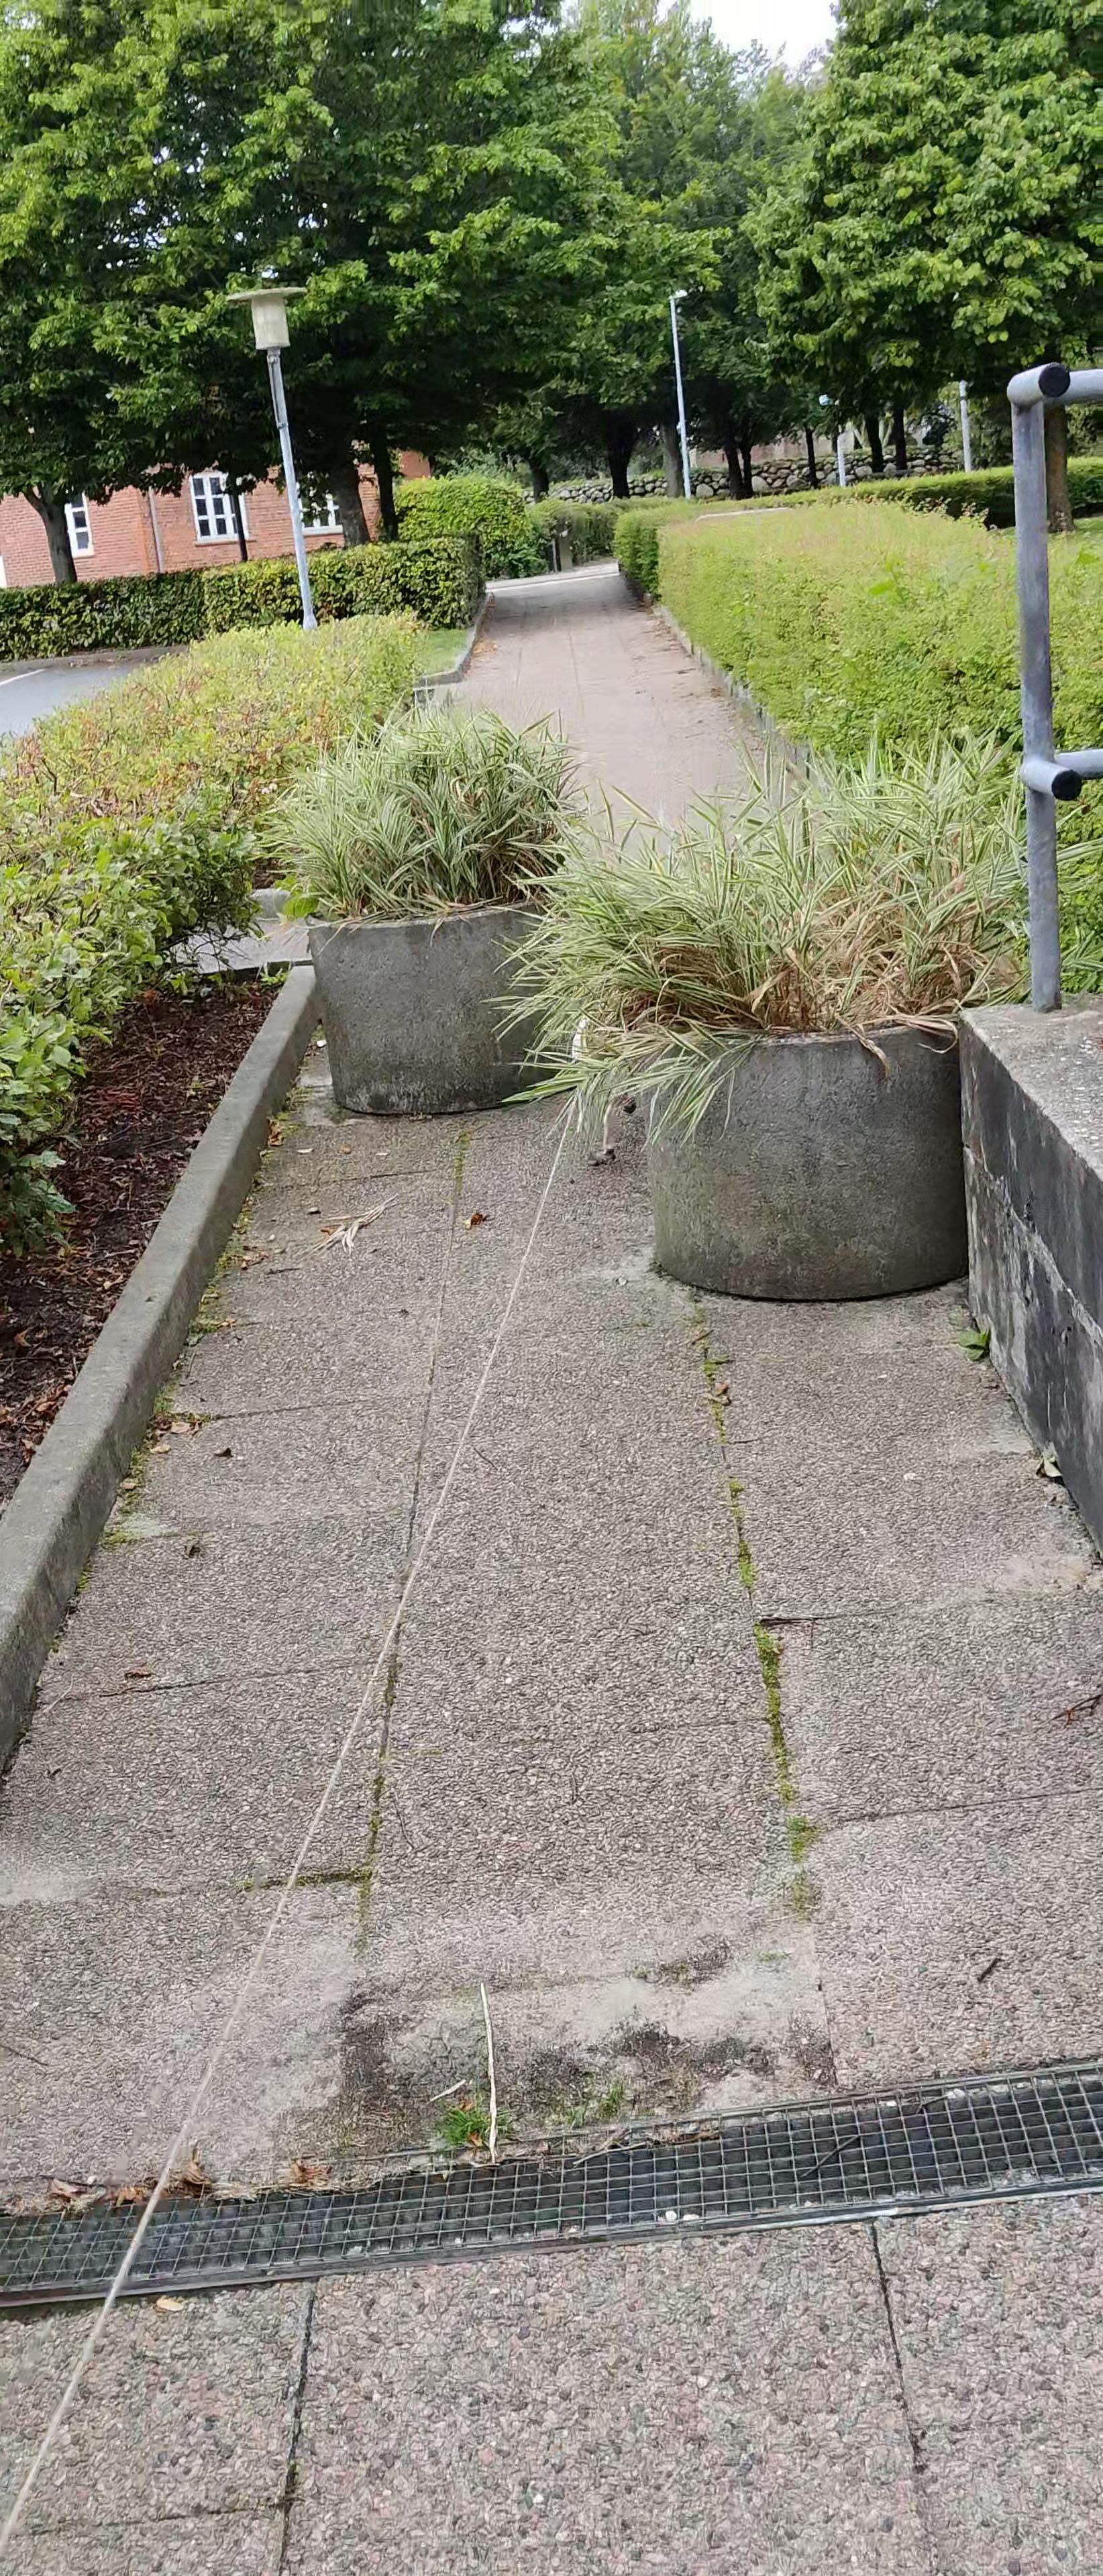Dog: (565, 987, 639, 1166)
